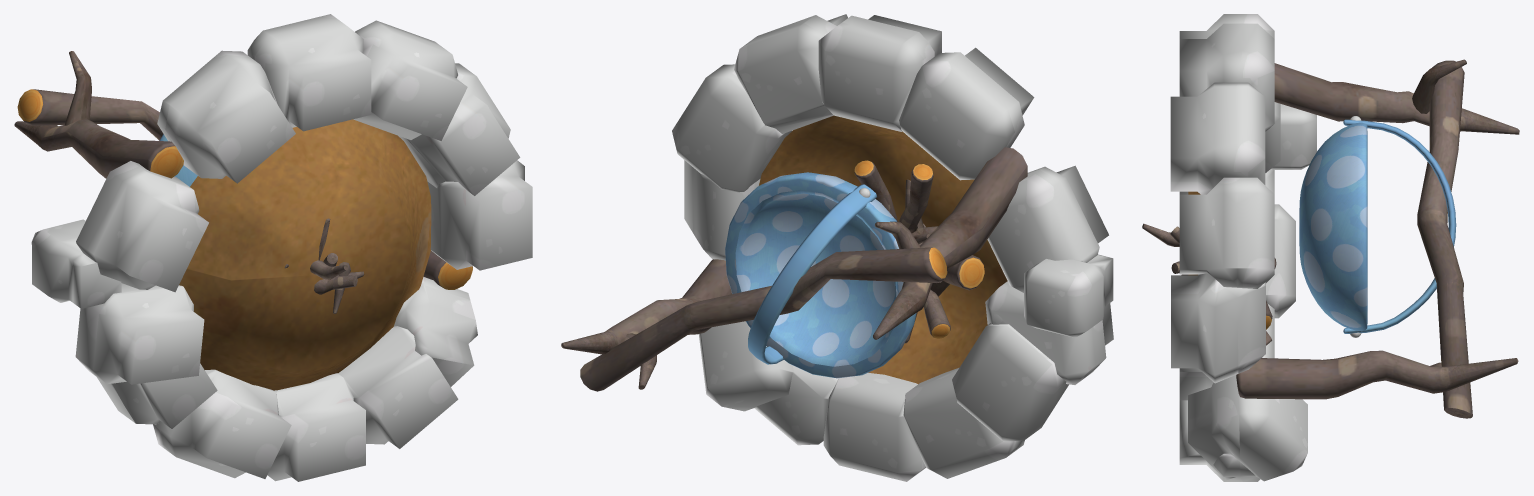
File: Campfire.FBX
3 renders of one model, left to right at view 1: azimuth 30°, elevation 25°; view 2: azimuth 150°, elevation 25°; view 3: azimuth 270°, elevation 25°, orthographic. The views are drawn at different scales.
Visible parts, largest first — view 1: Tent_pCube128__Stone00_S, Stage1__Soil, Season3IntermissionStageTent_polySurface38092__Wood00_AI, Season3IntermissionStageTent_polySurface38092__Wood01_M; view 2: Tent_pCube128__Stone00_S, Tent_pCylinder1175__DemoIron01_AI, Season3IntermissionStageTent_polySurface38092__Wood00_AI, Stage1__Soil, Season3IntermissionStageTent_polySurface38092__Wood01_M; view 3: Tent_pCube128__Stone00_S, Season3IntermissionStageTent_polySurface38092__Wood00_AI, Tent_pCylinder1175__DemoIron01_AI.
Boxes of the visible parts, x1=… form: Tent_pCube128__Stone00_S: x1=31, y1=14, x2=532, y2=481; Stage1__Soil: x1=179, y1=119, x2=431, y2=390; Season3IntermissionStageTent_polySurface38092__Wood00_AI: x1=14, y1=51, x2=472, y2=313; Season3IntermissionStageTent_polySurface38092__Wood01_M: x1=17, y1=89, x2=472, y2=289; Tent_pCube128__Stone00_S: x1=672, y1=14, x2=1113, y2=481; Tent_pCylinder1175__DemoIron01_AI: x1=725, y1=172, x2=916, y2=378; Season3IntermissionStageTent_polySurface38092__Wood00_AI: x1=561, y1=147, x2=1027, y2=391; Stage1__Soil: x1=759, y1=115, x2=1007, y2=384; Season3IntermissionStageTent_polySurface38092__Wood01_M: x1=854, y1=160, x2=984, y2=338; Tent_pCube128__Stone00_S: x1=1170, y1=14, x2=1361, y2=481; Season3IntermissionStageTent_polySurface38092__Wood00_AI: x1=1142, y1=59, x2=1519, y2=418; Tent_pCylinder1175__DemoIron01_AI: x1=1299, y1=119, x2=1456, y2=333.
Bounding box in the file's own units: 252 × 235 × 191.
